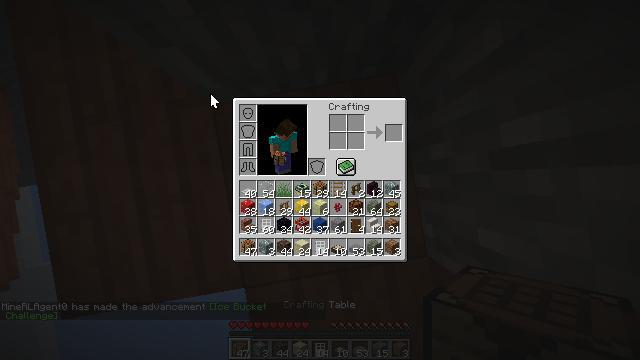cursor: (210, 93, 220, 109)
